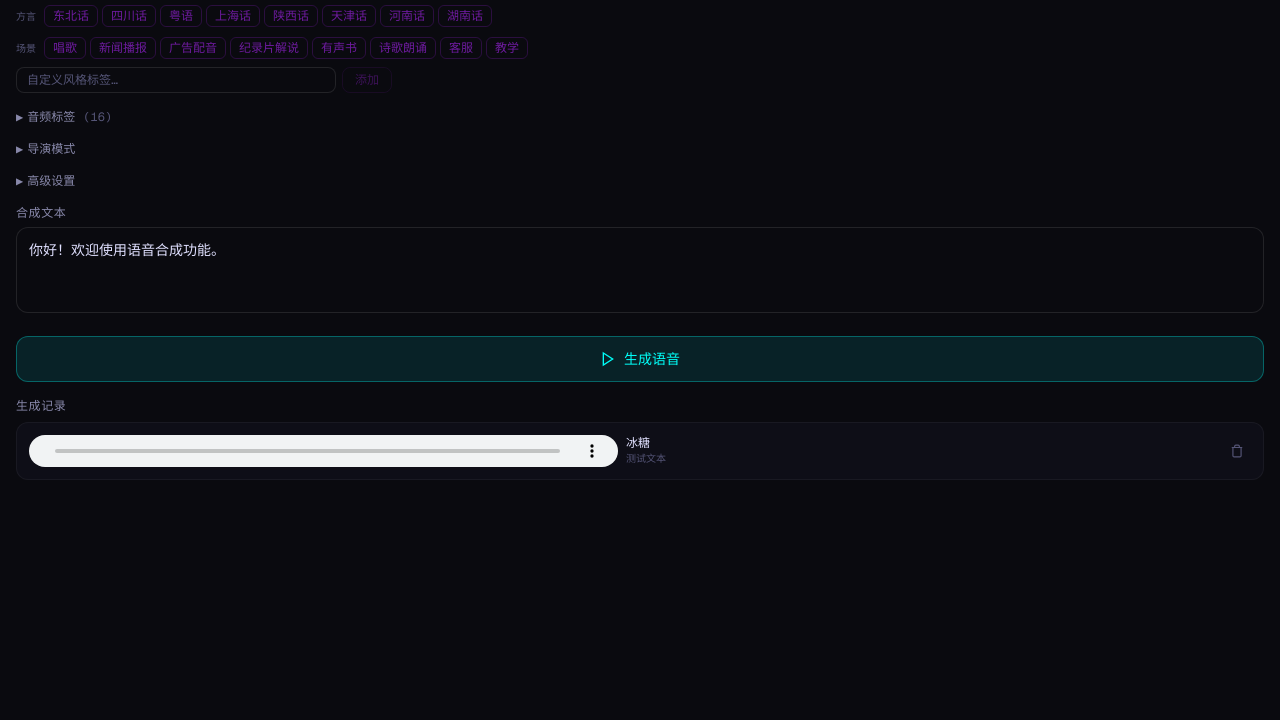
Test: TtsTool › history › deletes a history record when delete button is clicked
The image size is (1280, 720).
(page scrolled)
Click the button named "删除".
click(1237, 450)  # box [1223,436,1251,464]
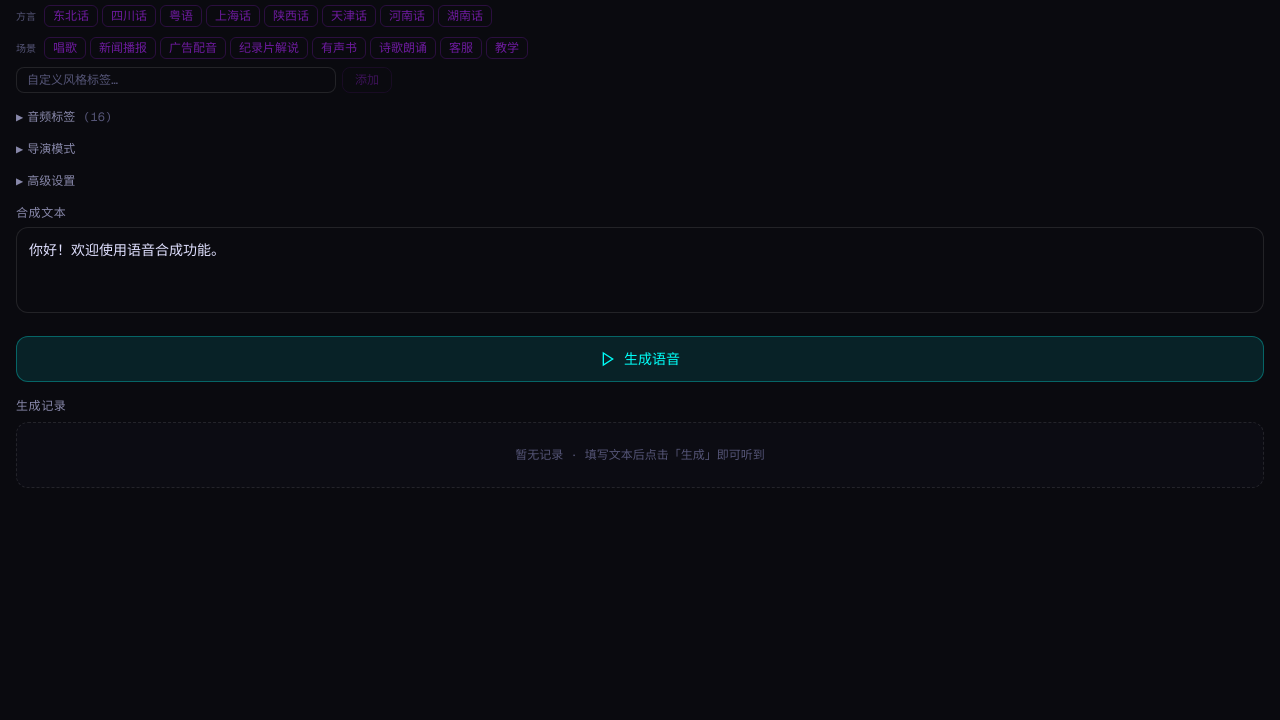
Result: the button labelled "删除" is gone
